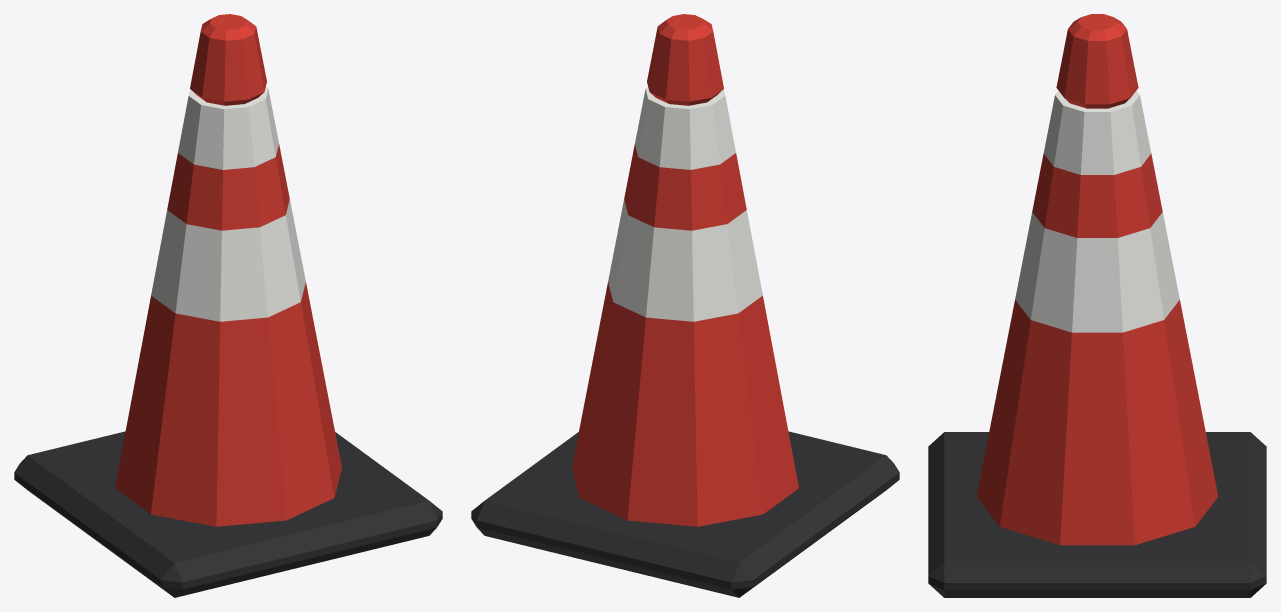
File: traffic_cone.obj
3 renders of one model, left to right at view 1: azimuth 30°, elevation 25°; view 2: azimuth 150°, elevation 25°; view 3: azimuth 270°, elevation 25°, orthographic. The views are drawn at different scales.
Parts seen in each view (by area): view 1: traffic_cone; view 2: traffic_cone; view 3: traffic_cone.
Part boxes in pixels (bbox=[...]): traffic_cone: bbox=[14, 14, 442, 597]; traffic_cone: bbox=[471, 14, 899, 597]; traffic_cone: bbox=[928, 14, 1266, 597].
Size of the model in its own units: 0.42 by 0.7 by 0.42.
